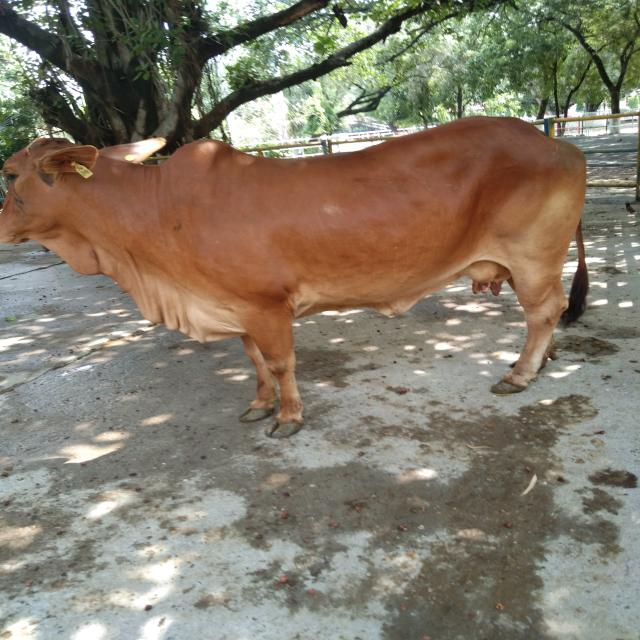1: (154, 138, 268, 168)
Hoof: (264, 416, 305, 439), (238, 405, 275, 423), (489, 378, 526, 396)
